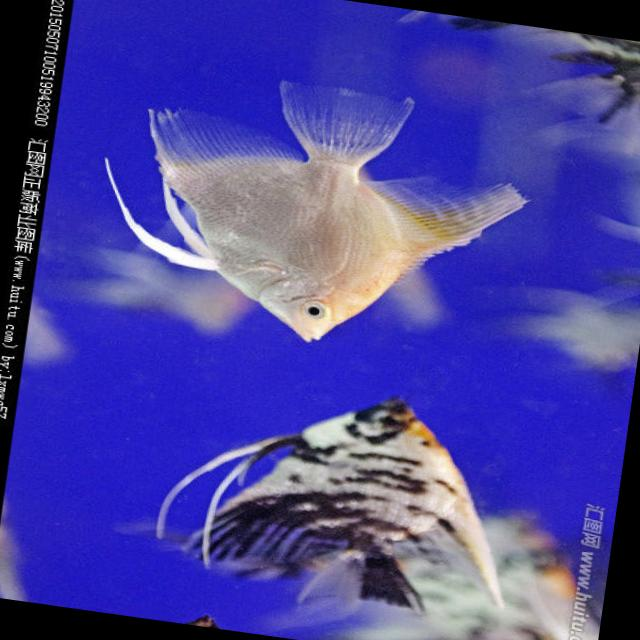AngelFish: (82, 53, 542, 372), (144, 365, 524, 618)
